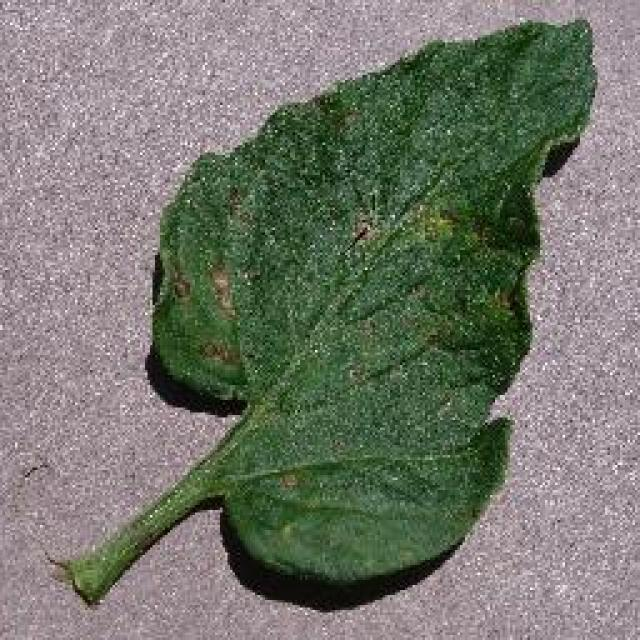Tomato target spot leaf: (149, 20, 601, 588)
